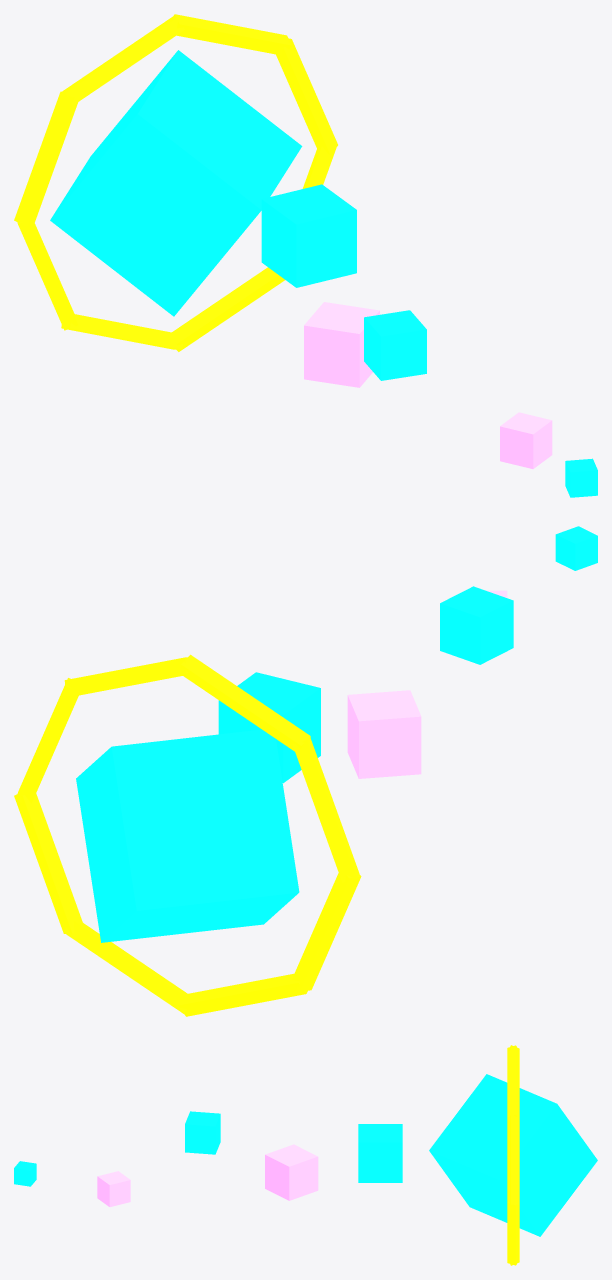
The model's file is Proj_HackPacket.fbx.
3 views of the same model, one above another, from view 1: azimuth 30°, elevation 25°; view 2: azimuth 150°, elevation 25°; view 3: azimuth 270°, elevation 25° (orthographic). The views are drawn at different scales.
Visible parts, largest first — view 1: Hack_PacketShell, Hack_PacketRing, Hack_Bit0, Hack_Bit1, Hack_Bit2, Hack_Bit3, Hack_Bit4; view 2: Hack_PacketShell, Hack_PacketRing, Hack_Bit1, Hack_Bit2, Hack_Bit0, Hack_Bit4; view 3: Hack_PacketShell, Hack_PacketRing, Hack_Bit0, Hack_Bit1, Hack_Bit2, Hack_Bit3, Hack_Bit4.
Part boxes in pixels (left/top/right/bottom): Hack_PacketShell: left=50, top=50, right=302, bottom=316; Hack_PacketRing: left=14, top=14, right=337, bottom=351; Hack_Bit0: left=261, top=184, right=356, bottom=287; Hack_Bit1: left=304, top=302, right=379, bottom=387; Hack_Bit2: left=364, top=310, right=426, bottom=380; Hack_Bit3: left=500, top=412, right=552, bottom=468; Hack_Bit4: left=565, top=458, right=597, bottom=497; Hack_PacketShell: left=76, top=729, right=299, bottom=942; Hack_PacketRing: left=14, top=654, right=361, bottom=1016; Hack_Bit1: left=347, top=690, right=421, bottom=778; Hack_Bit2: left=440, top=586, right=513, bottom=664; Hack_Bit0: left=218, top=672, right=320, bottom=783; Hack_Bit4: left=555, top=526, right=597, bottom=570; Hack_PacketShell: left=429, top=1074, right=597, bottom=1236; Hack_PacketRing: left=507, top=1045, right=519, bottom=1265; Hack_Bit0: left=358, top=1124, right=402, bottom=1182; Hack_Bit1: left=265, top=1144, right=318, bottom=1200; Hack_Bit2: left=185, top=1111, right=220, bottom=1154; Hack_Bit3: left=97, top=1171, right=130, bottom=1206; Hack_Bit4: left=14, top=1161, right=36, bottom=1186.
Size of the model in its own units: 0.1059 by 0.1059 by 0.2632.
